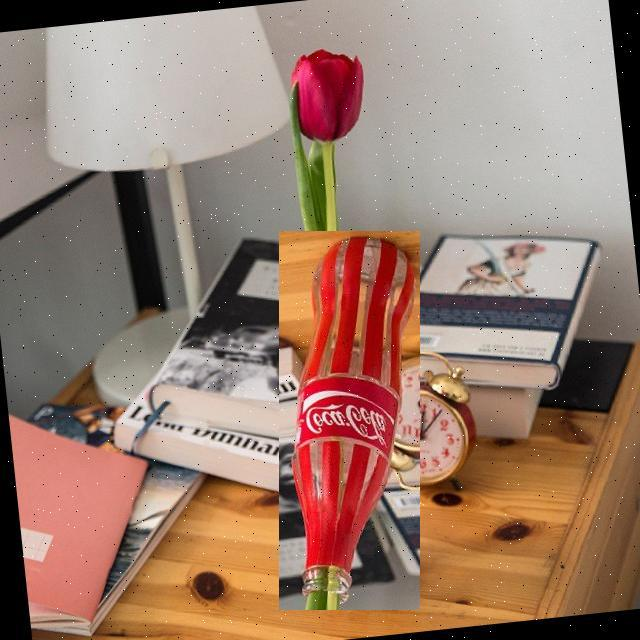coca-cola: (279, 231, 420, 610)
